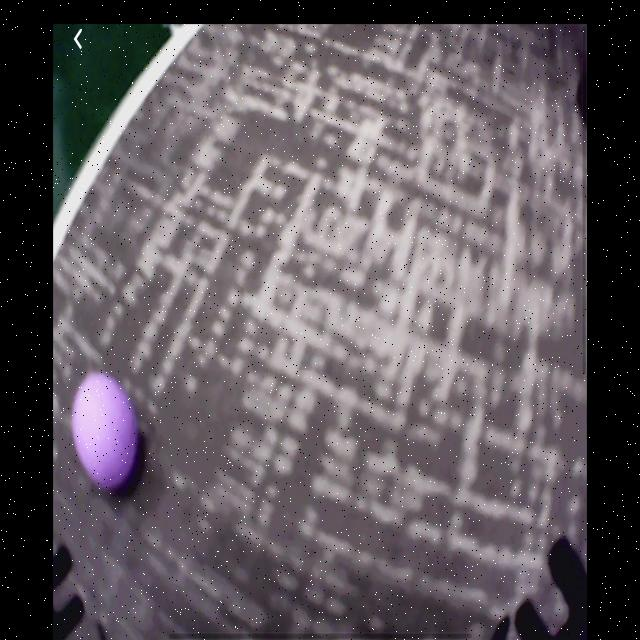ball: (73, 372, 138, 489)
